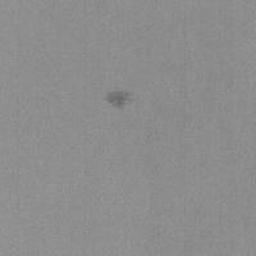Inclusion: (106, 88, 137, 110)
